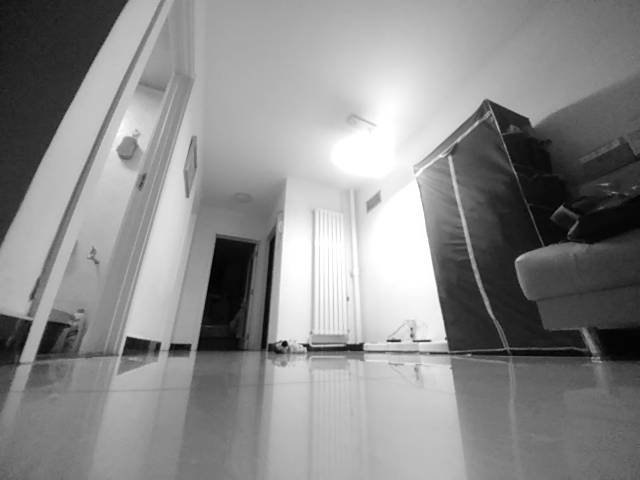toy: (271, 338, 306, 355)
